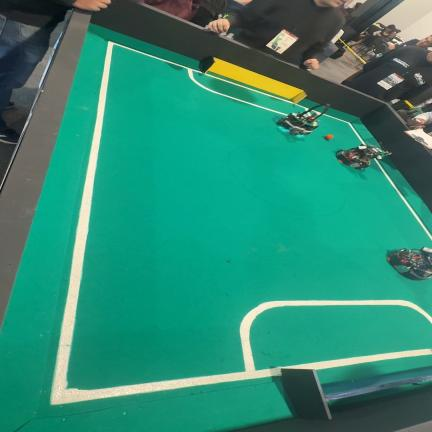cancha: (0, 25, 431, 431)
limites: (50, 41, 432, 405), (375, 161, 432, 240), (210, 74, 310, 110), (324, 114, 365, 144)
pelota: (323, 135, 333, 140)
porteria: (281, 368, 432, 420), (200, 57, 306, 104)
robot: (278, 104, 329, 135), (387, 247, 432, 280), (336, 144, 390, 170)
